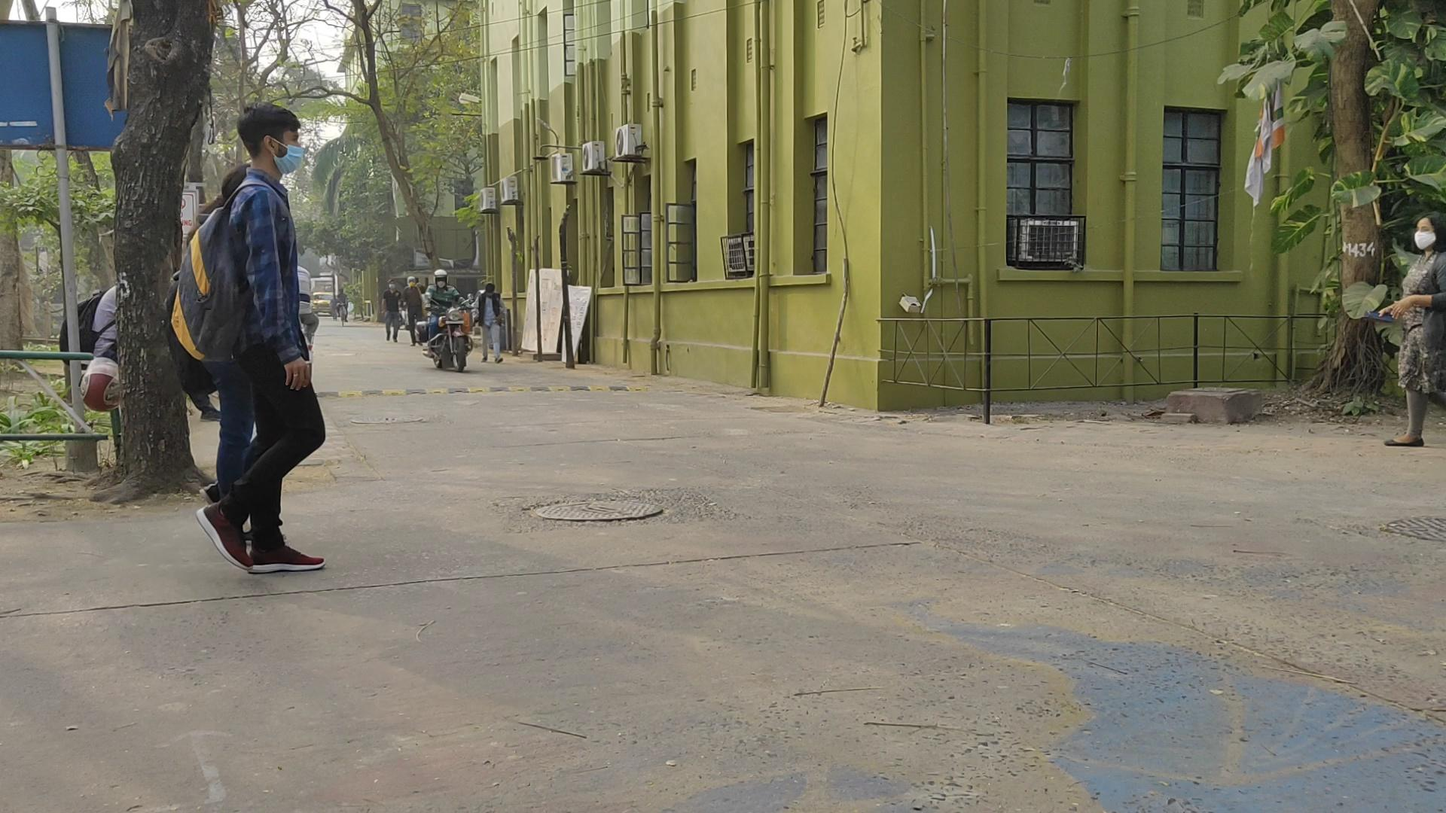bike: (1380, 217, 1446, 448), (412, 266, 474, 373), (334, 287, 351, 327)
car: (309, 290, 337, 318)
